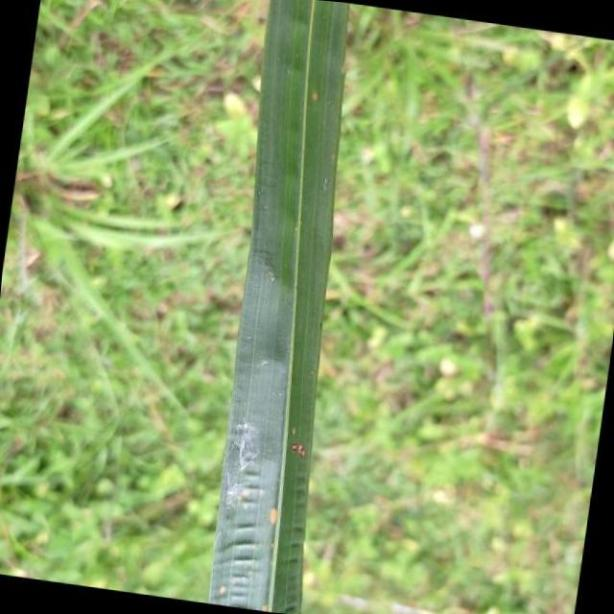Boron: (209, 0, 355, 614)
